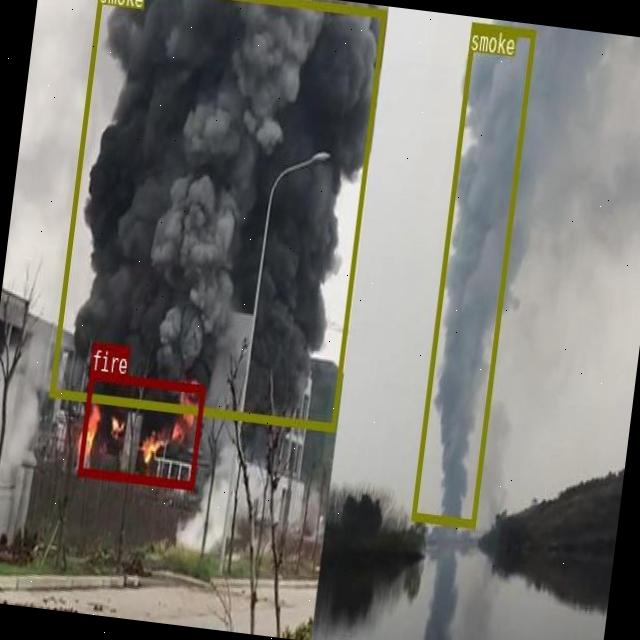fire: (76, 371, 204, 488)
smoke: (49, 0, 385, 428), (411, 21, 534, 525)
